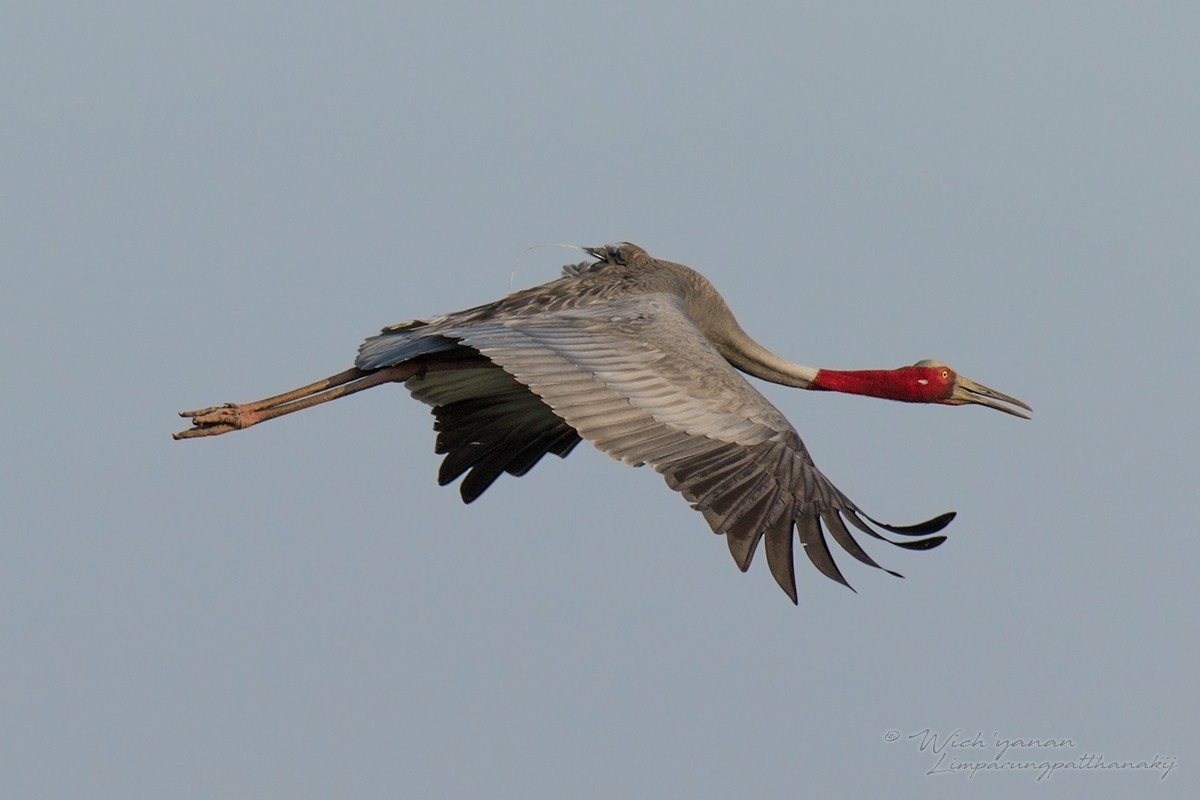crane: (151, 236, 1066, 610)
